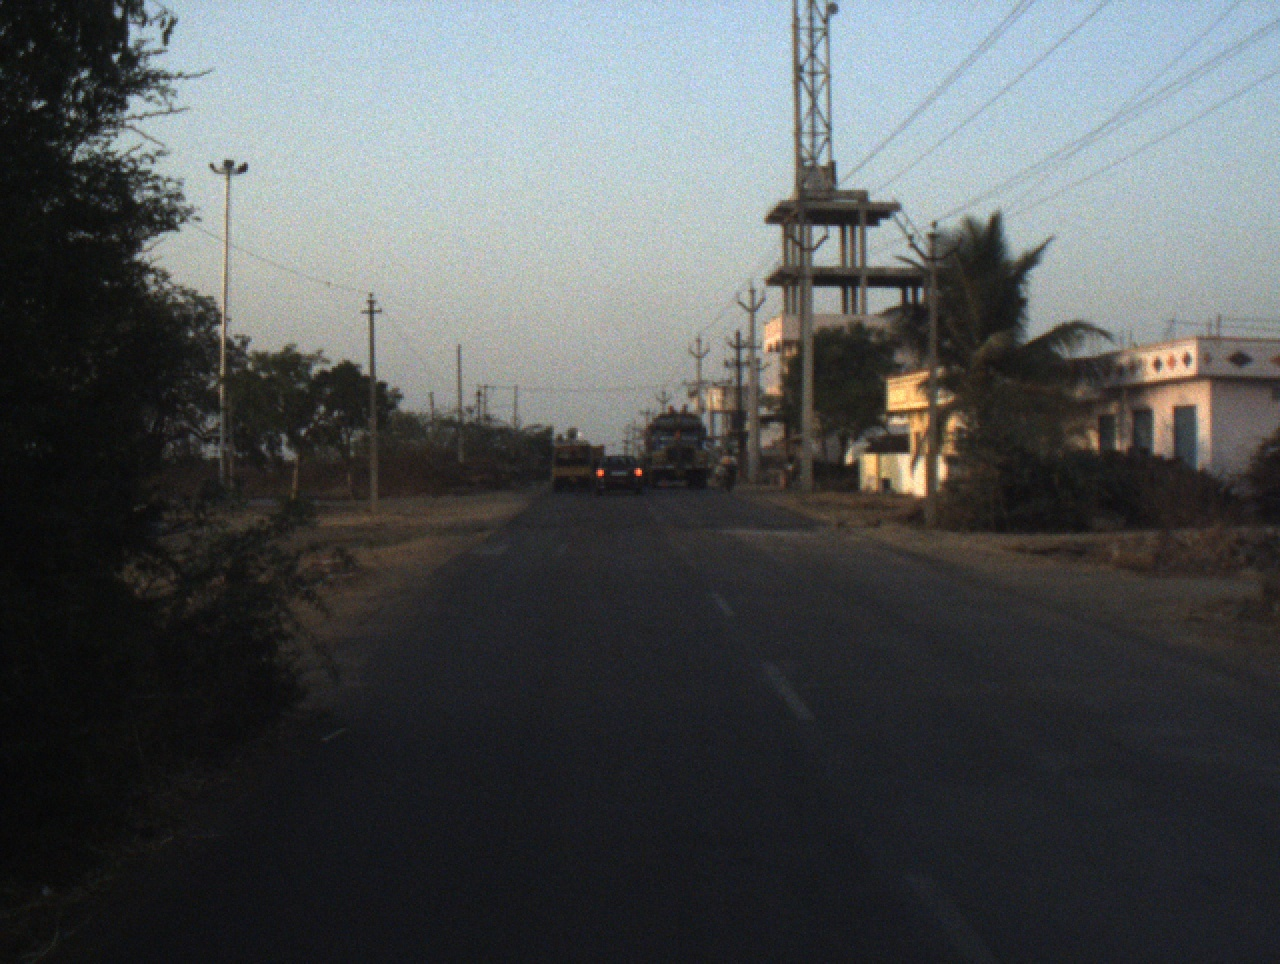autorickshaw: (550, 425, 596, 494)
car: (590, 453, 645, 497)
motorcycle: (712, 461, 735, 493)
rider: (718, 445, 735, 482)
truck: (642, 408, 714, 489)
vehicle fallback: (592, 441, 605, 466)
